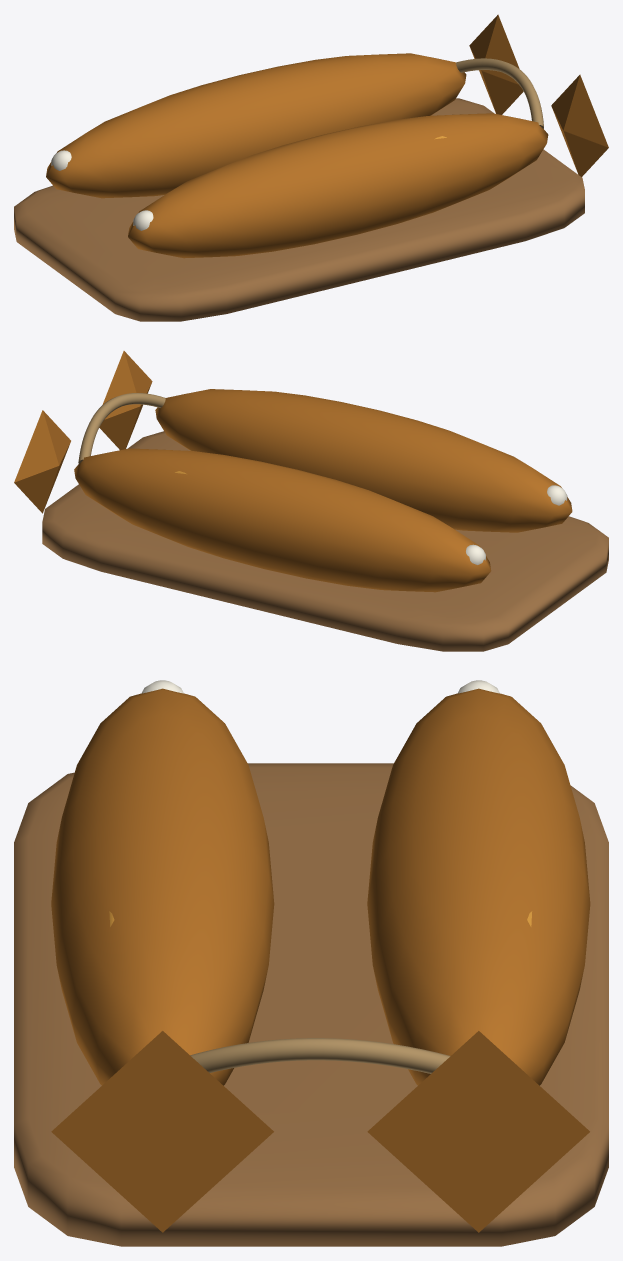
Rendered from raeucherhering.glb.
3 views of the same model, one above another, from view 1: azimuth 30°, elevation 25°; view 2: azimuth 150°, elevation 25°; view 3: azimuth 270°, elevation 25° (orthographic). The views are drawn at different scales.
Visible parts, largest first — view 1: Cube, Sphere, Sphere.003, Cone, Cone.001, r; view 2: Cube, Sphere.003, Sphere, Cone.001, Cone, r; view 3: Cube, Sphere.003, Sphere, Cone.001, Cone, r.
Boxes of the visible parts, x1,y1,x2,y2 form: Cube: (14, 98, 584, 321); Sphere: (128, 113, 548, 258); Sphere.003: (46, 53, 466, 198); Cone: (551, 74, 608, 176); Cone.001: (469, 14, 523, 114); r: (456, 58, 543, 128); Cube: (42, 431, 608, 651); Sphere.003: (74, 448, 491, 592); Sphere: (155, 389, 572, 532); Cone.001: (14, 410, 70, 513); Cone: (99, 351, 152, 450); r: (78, 393, 165, 463); Cube: (14, 763, 608, 1246); Sphere.003: (367, 688, 590, 1085); Sphere: (51, 688, 274, 1085); Cone.001: (367, 1031, 589, 1232); Cone: (51, 1031, 273, 1232); r: (190, 1038, 450, 1073).
Bounding box in the file's own units: 0.285 × 0.07 × 0.16.
